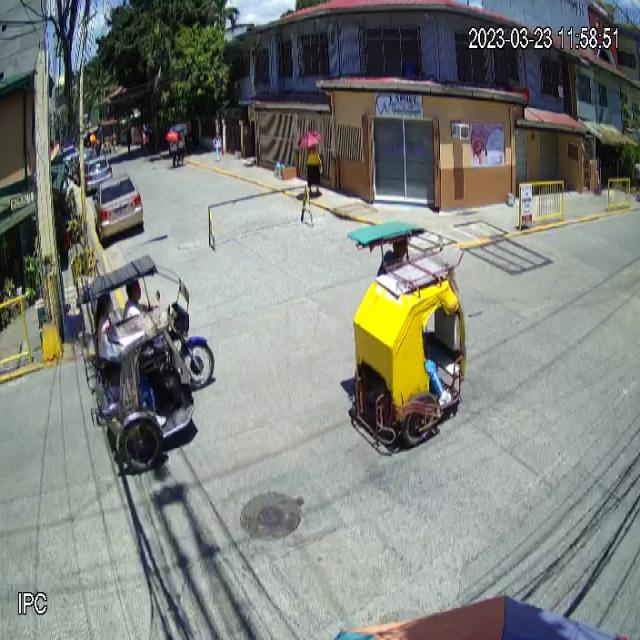Tricycle: (77, 253, 214, 471)
